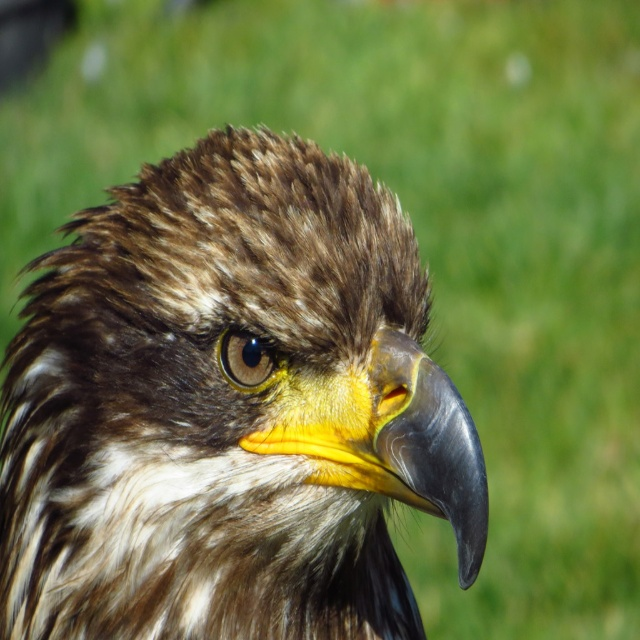Eagle: (0, 117, 490, 639)
